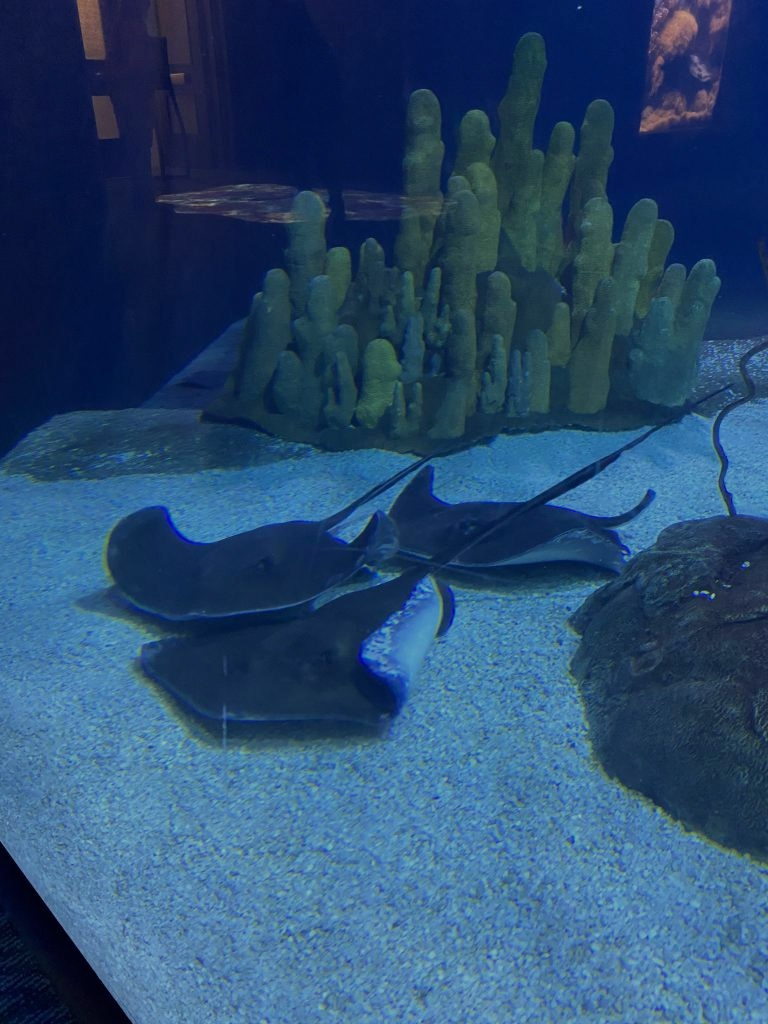stingray: (136, 571, 450, 725), (107, 504, 369, 620), (379, 464, 631, 574)
